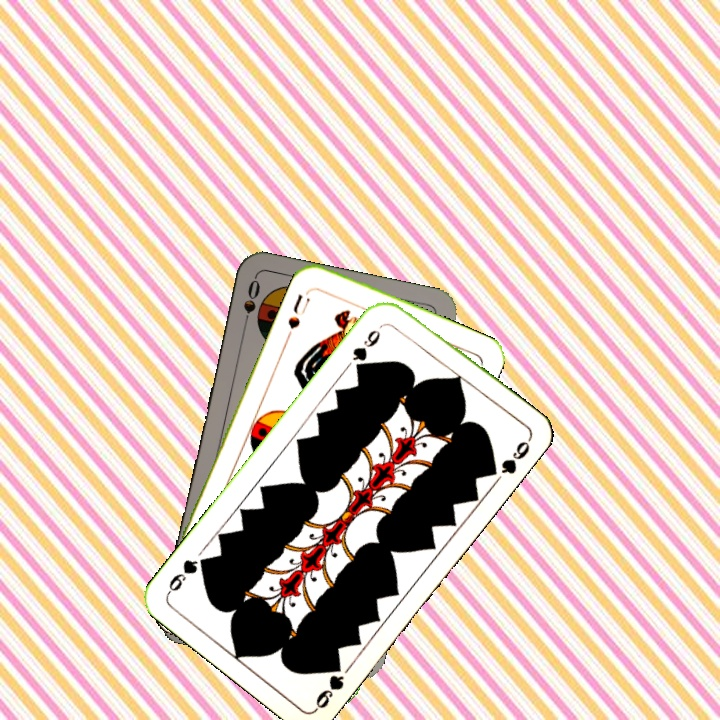G9: (311, 656, 347, 713), (348, 325, 383, 374)
SO: (239, 275, 263, 334)
SU: (282, 285, 315, 341)
